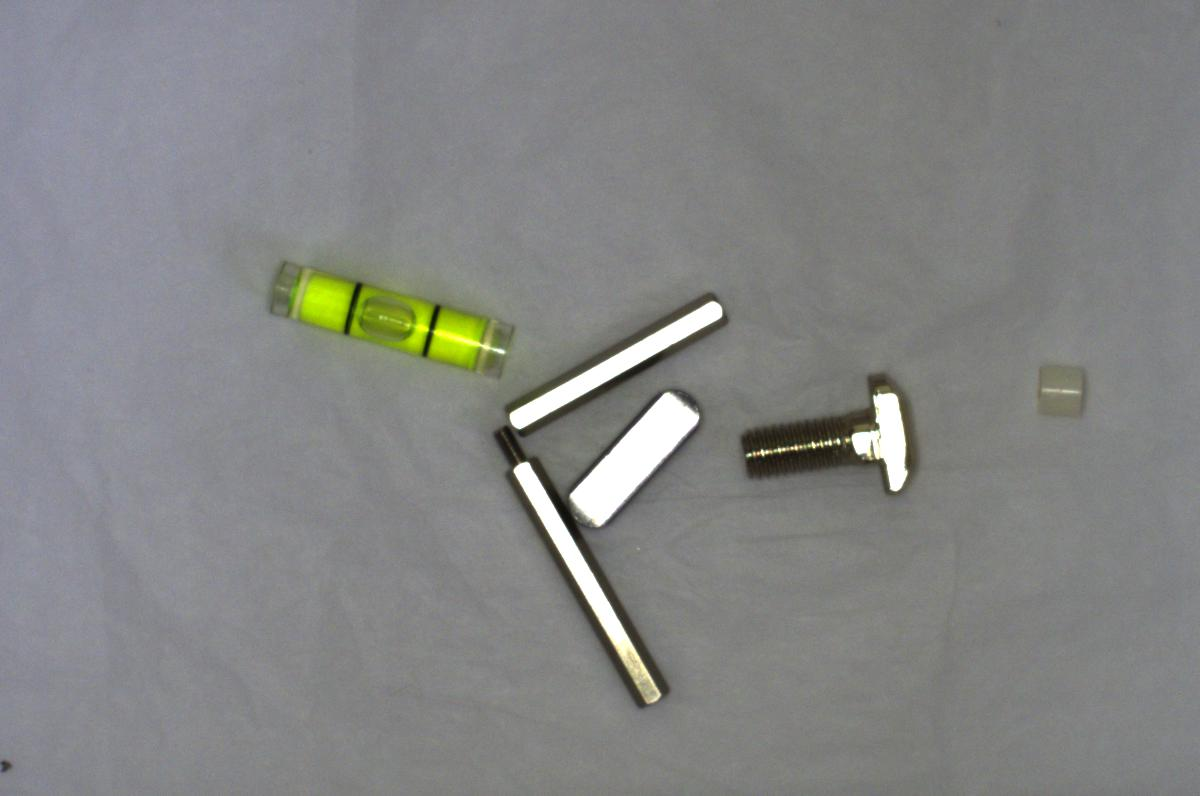Double hexagonal column: (499, 275, 732, 427)
Hexagonal steel column: (493, 422, 668, 709)
Horizontal bubble: (265, 254, 513, 381)
Keybar: (551, 392, 706, 536)
Plastic cushion pillar: (1019, 349, 1095, 432)
T-shaped screw: (731, 372, 925, 503)
